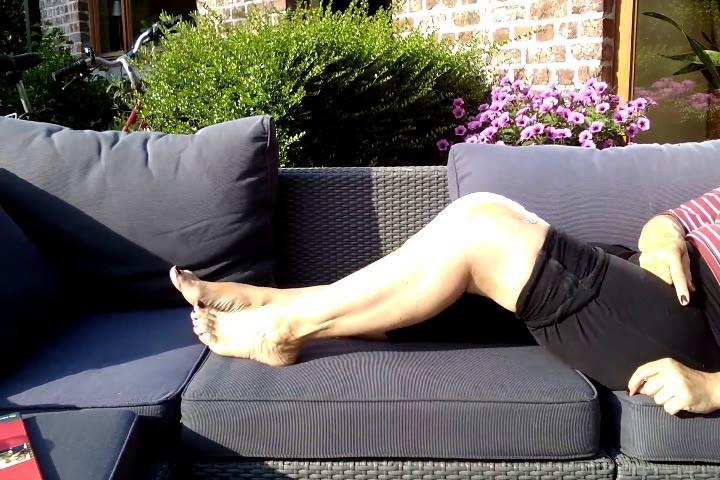lowerbody: (162, 188, 715, 404)
